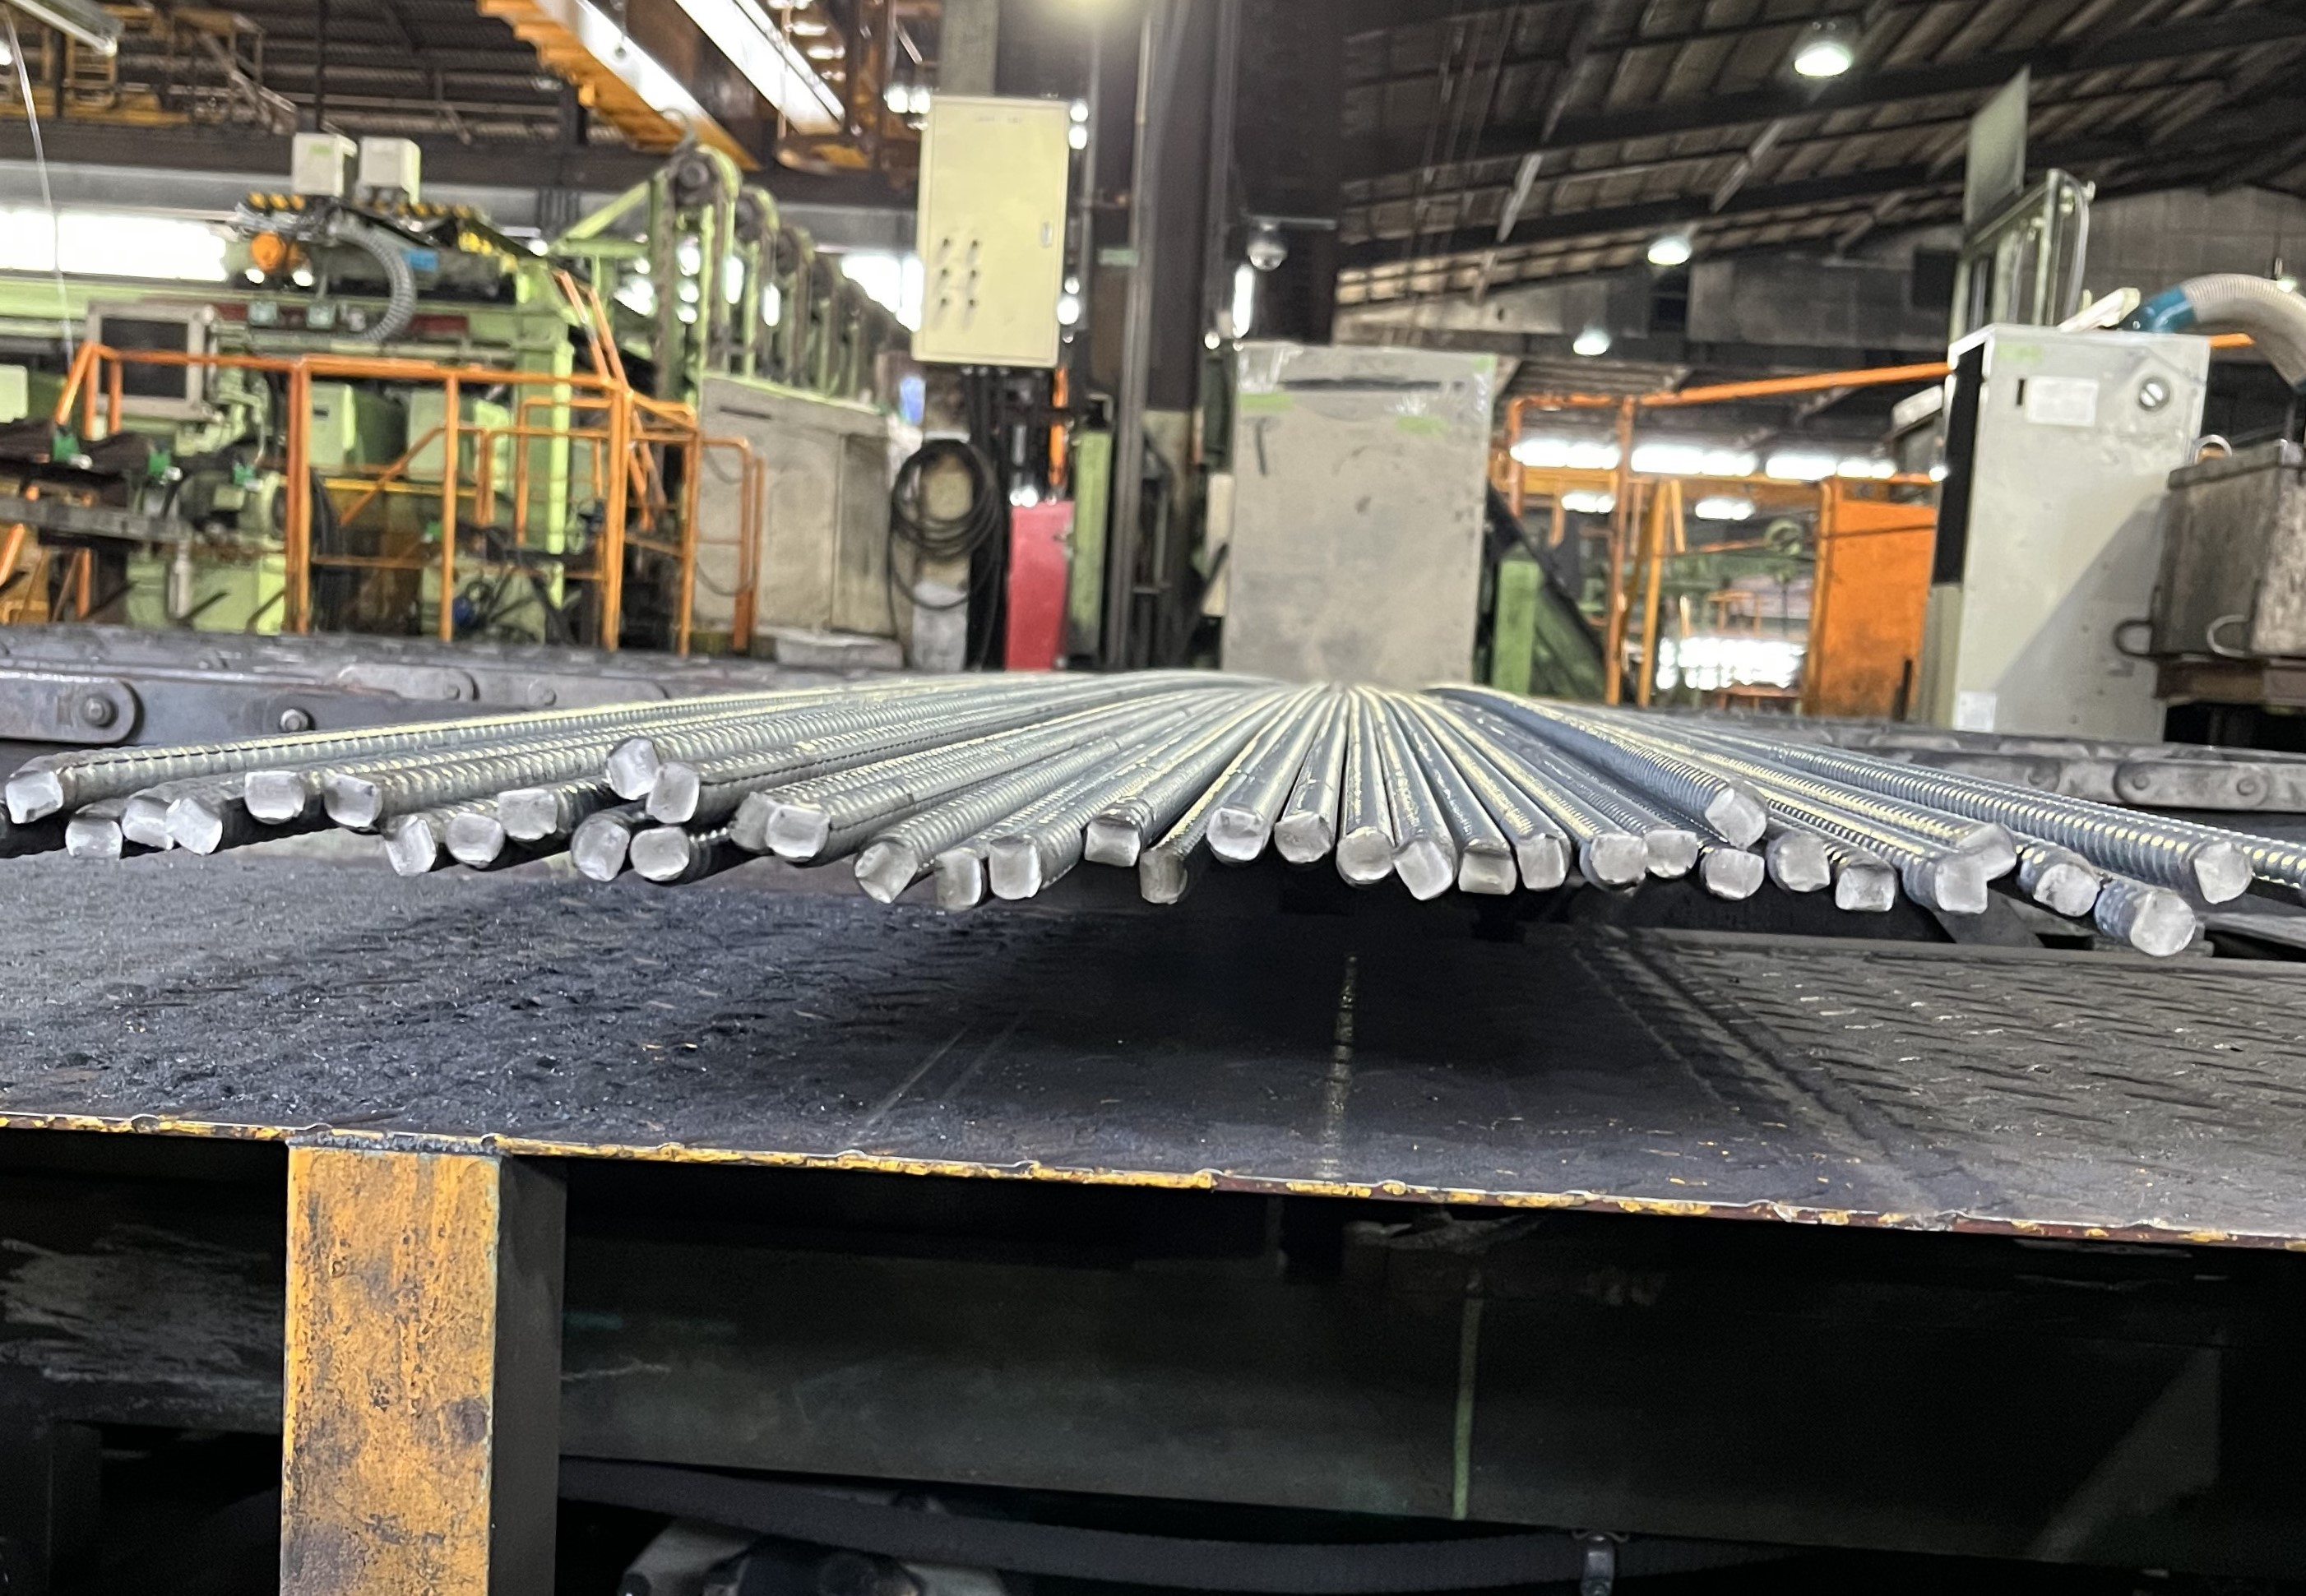rod: (2126, 888, 2197, 958), (850, 837, 918, 904), (1701, 783, 1770, 848), (568, 815, 631, 885), (2, 764, 67, 830), (603, 736, 666, 801), (1766, 830, 1831, 893), (161, 794, 223, 860), (987, 832, 1046, 900), (2031, 860, 2099, 920), (321, 767, 384, 830), (1956, 820, 2019, 883), (762, 802, 831, 860), (2192, 841, 2253, 904), (1395, 837, 1454, 902), (1333, 825, 1395, 886), (627, 825, 690, 885), (496, 785, 561, 843), (242, 769, 308, 825), (382, 811, 438, 878), (445, 809, 505, 871), (1081, 811, 1142, 871), (1206, 804, 1267, 864), (1933, 853, 1991, 916), (1835, 858, 1899, 915), (1700, 846, 1766, 900), (932, 844, 985, 913), (60, 809, 124, 864), (1586, 832, 1652, 885), (1456, 843, 1517, 899), (121, 790, 175, 853), (645, 762, 699, 823), (1270, 811, 1332, 865), (1514, 832, 1568, 892), (725, 792, 776, 853), (1644, 827, 1700, 878), (1139, 846, 1186, 906)
